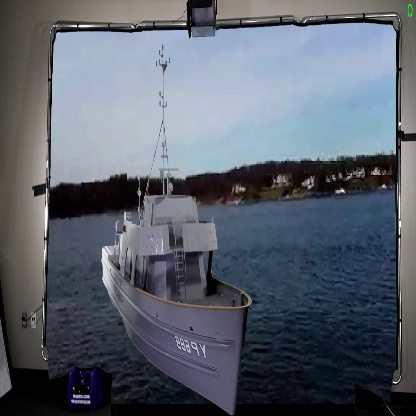YP689: (101, 48, 253, 414)
